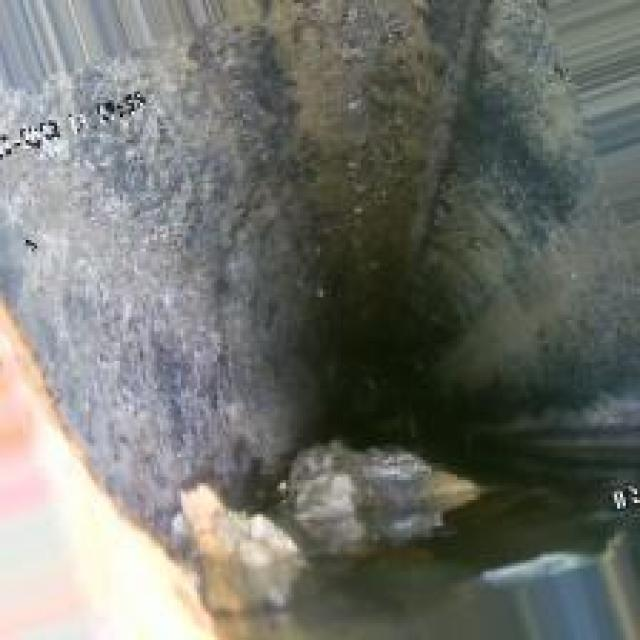stone: (166, 432, 483, 592)
